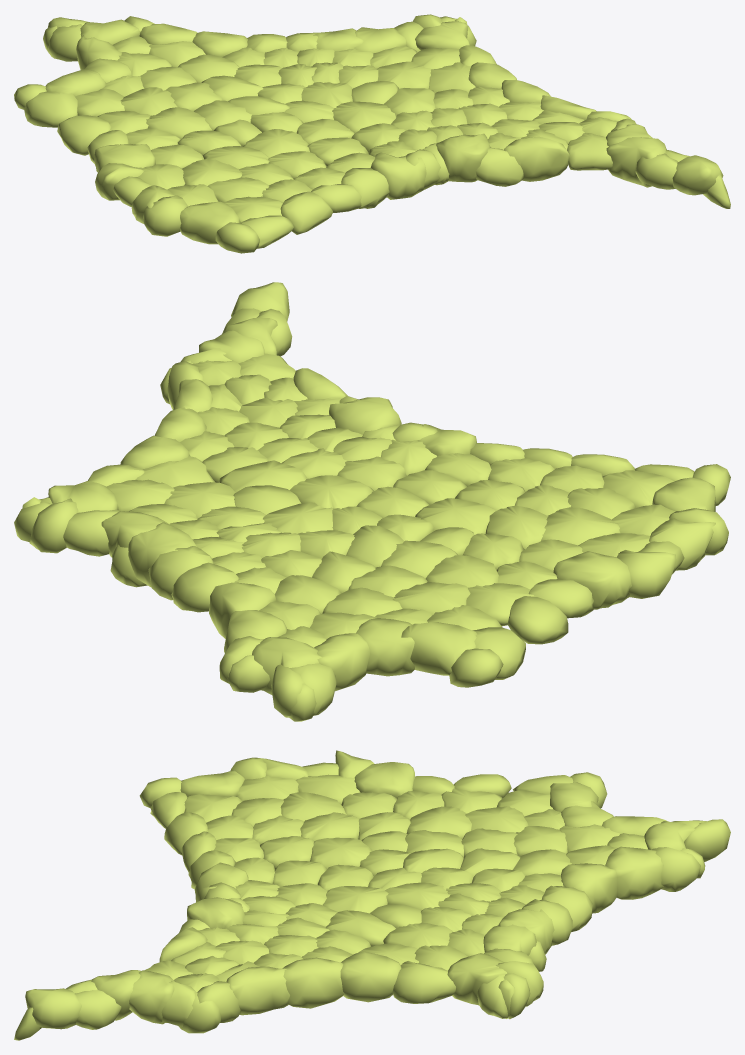
The model's file is Islands1.006_fog.fbx.
The picture shows the model from 3 angles, top to bottom: view 1: azimuth 30°, elevation 25°; view 2: azimuth 150°, elevation 25°; view 3: azimuth 270°, elevation 25°; orthographic projection. The views are drawn at different scales.
Parts seen in each view (by area): view 1: Island1.006_fog_cell.047, Island1.006_fog_cell.002, Island1.006_fog_cell.056, Island1.006_fog_cell.016, Island1.006_fog_cell.026, Island1.006_fog_cell.034, Island1.006_fog_cell.042, Island1.006_fog_cell.108, Island1.006_fog_cell.101, Island1.006_fog_cell.096, Island1.006_fog_cell.001, Island1.006_fog_cell.053 (+96 smaller); view 2: Island1.006_fog_cell.107, Island1.006_fog_cell.060, Island1.006_fog_cell.098, Island1.006_fog_cell.096, Island1.006_fog_cell.083, Island1.006_fog_cell.008, Island1.006_fog_cell.022, Island1.006_fog_cell.092, Island1.006_fog_cell.106, Island1.006_fog_cell.006, Island1.006_fog_cell.001, Island1.006_fog_cell.002 (+96 smaller); view 3: Island1.006_fog_cell.090, Island1.006_fog_cell.063, Island1.006_fog_cell.039, Island1.006_fog_cell.071, Island1.006_fog_cell.122, Island1.006_fog_cell.006, Island1.006_fog_cell.108, Island1.006_fog_cell.049, Island1.006_fog_cell.082, Island1.006_fog_cell.107, Island1.006_fog_cell, Island1.006_fog_cell.110 (+101 smaller).
Boxes of the visible parts, x1,y1,x2,y2 form: Island1.006_fog_cell.047: (504, 136, 569, 181); Island1.006_fog_cell.002: (436, 133, 490, 182); Island1.006_fog_cell.056: (180, 201, 240, 244); Island1.006_fog_cell.016: (370, 152, 426, 199); Island1.006_fog_cell.026: (606, 137, 666, 187); Island1.006_fog_cell.034: (24, 91, 77, 127); Island1.006_fog_cell.042: (280, 191, 332, 234); Island1.006_fog_cell.108: (672, 155, 723, 195); Island1.006_fog_cell.101: (567, 133, 612, 170); Island1.006_fog_cell.096: (57, 115, 110, 155); Island1.006_fog_cell.001: (332, 101, 396, 133); Island1.006_fog_cell.053: (476, 147, 523, 186); Island1.006_fog_cell.107: (553, 551, 631, 609); Island1.006_fog_cell.060: (401, 622, 477, 675); Island1.006_fog_cell.098: (356, 618, 414, 676); Island1.006_fog_cell.096: (507, 596, 568, 644); Island1.006_fog_cell.083: (314, 633, 369, 691); Island1.006_fog_cell.008: (541, 507, 620, 545); Island1.006_fog_cell.022: (128, 522, 196, 587); Island1.006_fog_cell.092: (616, 550, 676, 598); Island1.006_fog_cell.106: (171, 562, 238, 612); Island1.006_fog_cell.006: (209, 582, 276, 638); Island1.006_fog_cell.001: (289, 475, 373, 508); Island1.006_fog_cell.002: (329, 397, 401, 434); Island1.006_fog_cell.090: (282, 957, 344, 1008); Island1.006_fog_cell.063: (340, 951, 401, 1002); Island1.006_fog_cell.039: (226, 966, 289, 1015); Island1.006_fog_cell.071: (605, 846, 663, 899); Island1.006_fog_cell.122: (392, 961, 455, 1003); Island1.006_fog_cell.006: (561, 863, 617, 913); Island1.006_fog_cell.108: (25, 988, 81, 1029); Island1.006_fog_cell.049: (447, 953, 507, 1005); Island1.006_fog_cell.082: (129, 970, 174, 1024); Island1.006_fog_cell.107: (354, 762, 415, 798); Island1.006_fog_cell: (310, 837, 371, 868); Island1.006_fog_cell.110: (652, 847, 700, 891).
Bounding box in the file's own units: 139 × 12.09 × 166.
